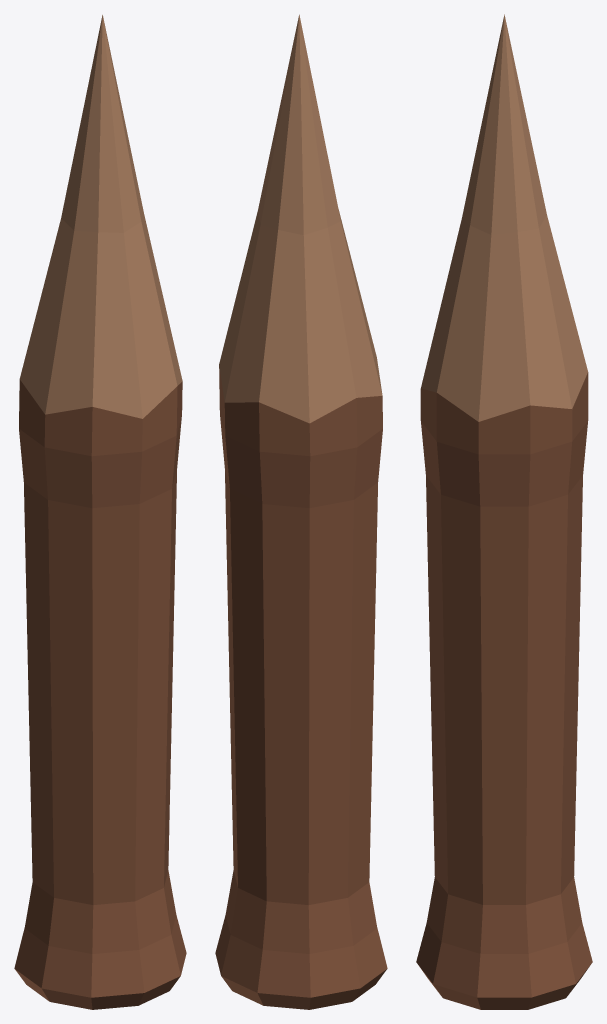
The model's file is Wooden Knife.fbx.
The picture shows the model from 3 angles, left to right: view 1: azimuth 30°, elevation 25°; view 2: azimuth 150°, elevation 25°; view 3: azimuth 270°, elevation 25°; orthographic projection.
Parts seen in each view (by area): view 1: Wooden Knife; view 2: Wooden Knife; view 3: Wooden Knife.
Part boxes in pixels (x1,y1,x2,y2): Wooden Knife: (14, 15, 186, 1009); Wooden Knife: (215, 14, 387, 1009); Wooden Knife: (416, 14, 592, 1009).
Bounding box in the file's own units: 6.43 × 40.79 × 6.76.
